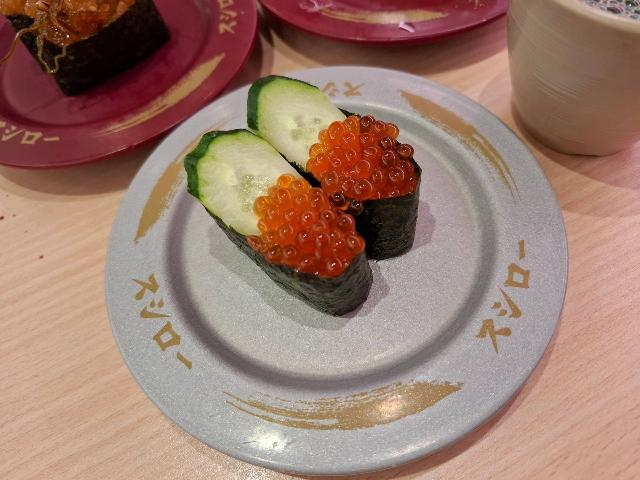janred: (0, 1, 253, 137), (261, 0, 510, 49)
janwhite: (103, 78, 576, 436)
